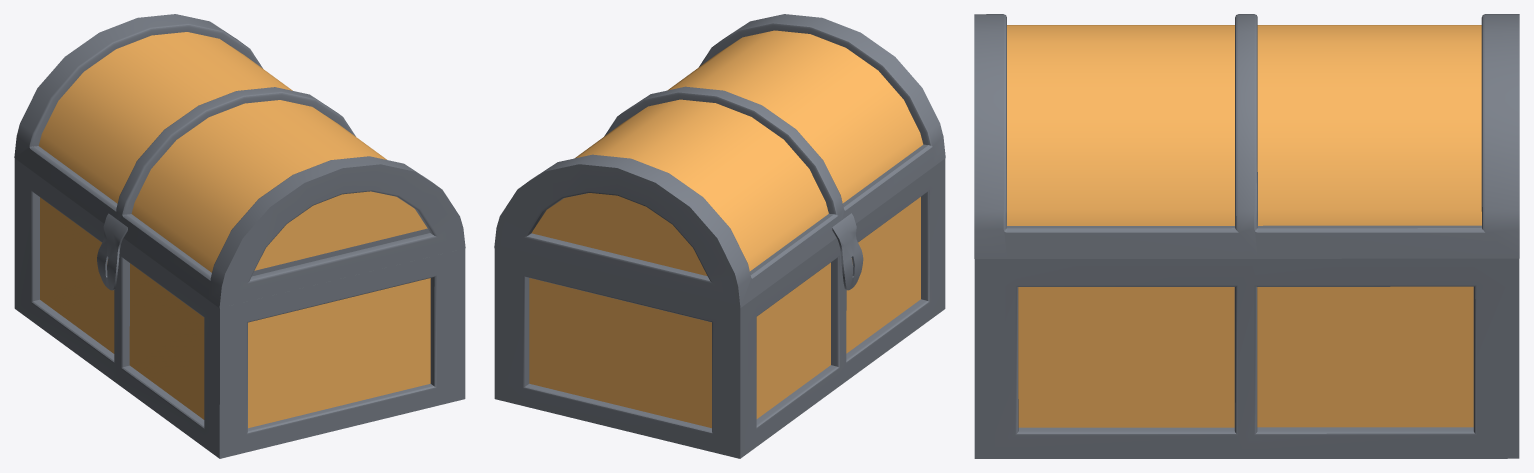
Rendered from SM_WoodChest.fbx.
3 views of the same model, side by side, from view 1: azimuth 30°, elevation 25°; view 2: azimuth 150°, elevation 25°; view 3: azimuth 270°, elevation 25° (orthographic). The views are drawn at different scales.
Parts seen in each view (by area): view 1: SM_LowValuePickup; view 2: SM_LowValuePickup; view 3: SM_LowValuePickup.
Boxes of the visible parts, bbox=[...] form: SM_LowValuePickup: bbox=[14, 14, 465, 458]; SM_LowValuePickup: bbox=[494, 14, 945, 458]; SM_LowValuePickup: bbox=[974, 14, 1519, 458].
Size of the model in its own units: 62.11 by 60.27 by 85.9.
